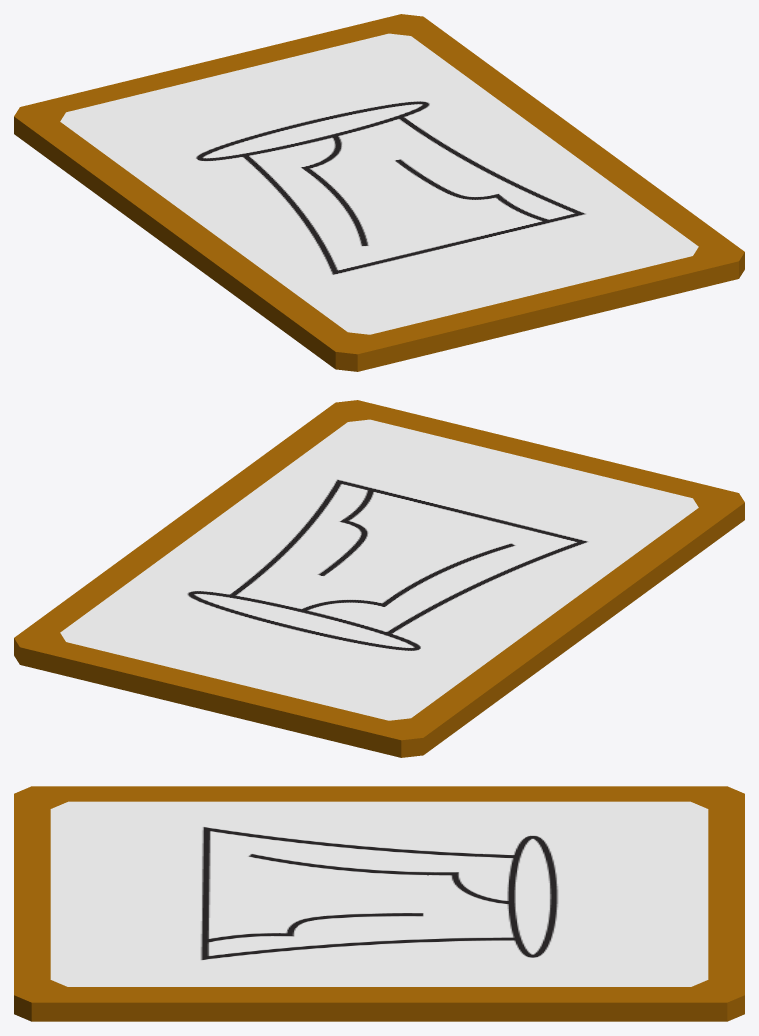
The model's file is Card.fbx.
3 views of the same model, one above another, from view 1: azimuth 30°, elevation 25°; view 2: azimuth 150°, elevation 25°; view 3: azimuth 270°, elevation 25° (orthographic). The views are drawn at different scales.
Visible parts, largest first — view 1: Card; view 2: Card; view 3: Card.
Part boxes in pixels (x1,y1,x2,y2): Card: (14, 14, 744, 371); Card: (14, 400, 744, 757); Card: (14, 786, 744, 1021).
Size of the model in its own units: 14 by 0.5761 by 20.
